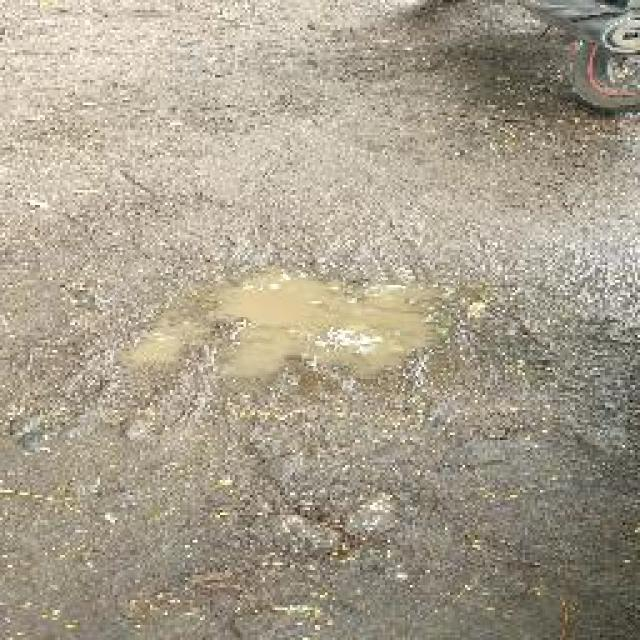puddle: (114, 264, 458, 394)
